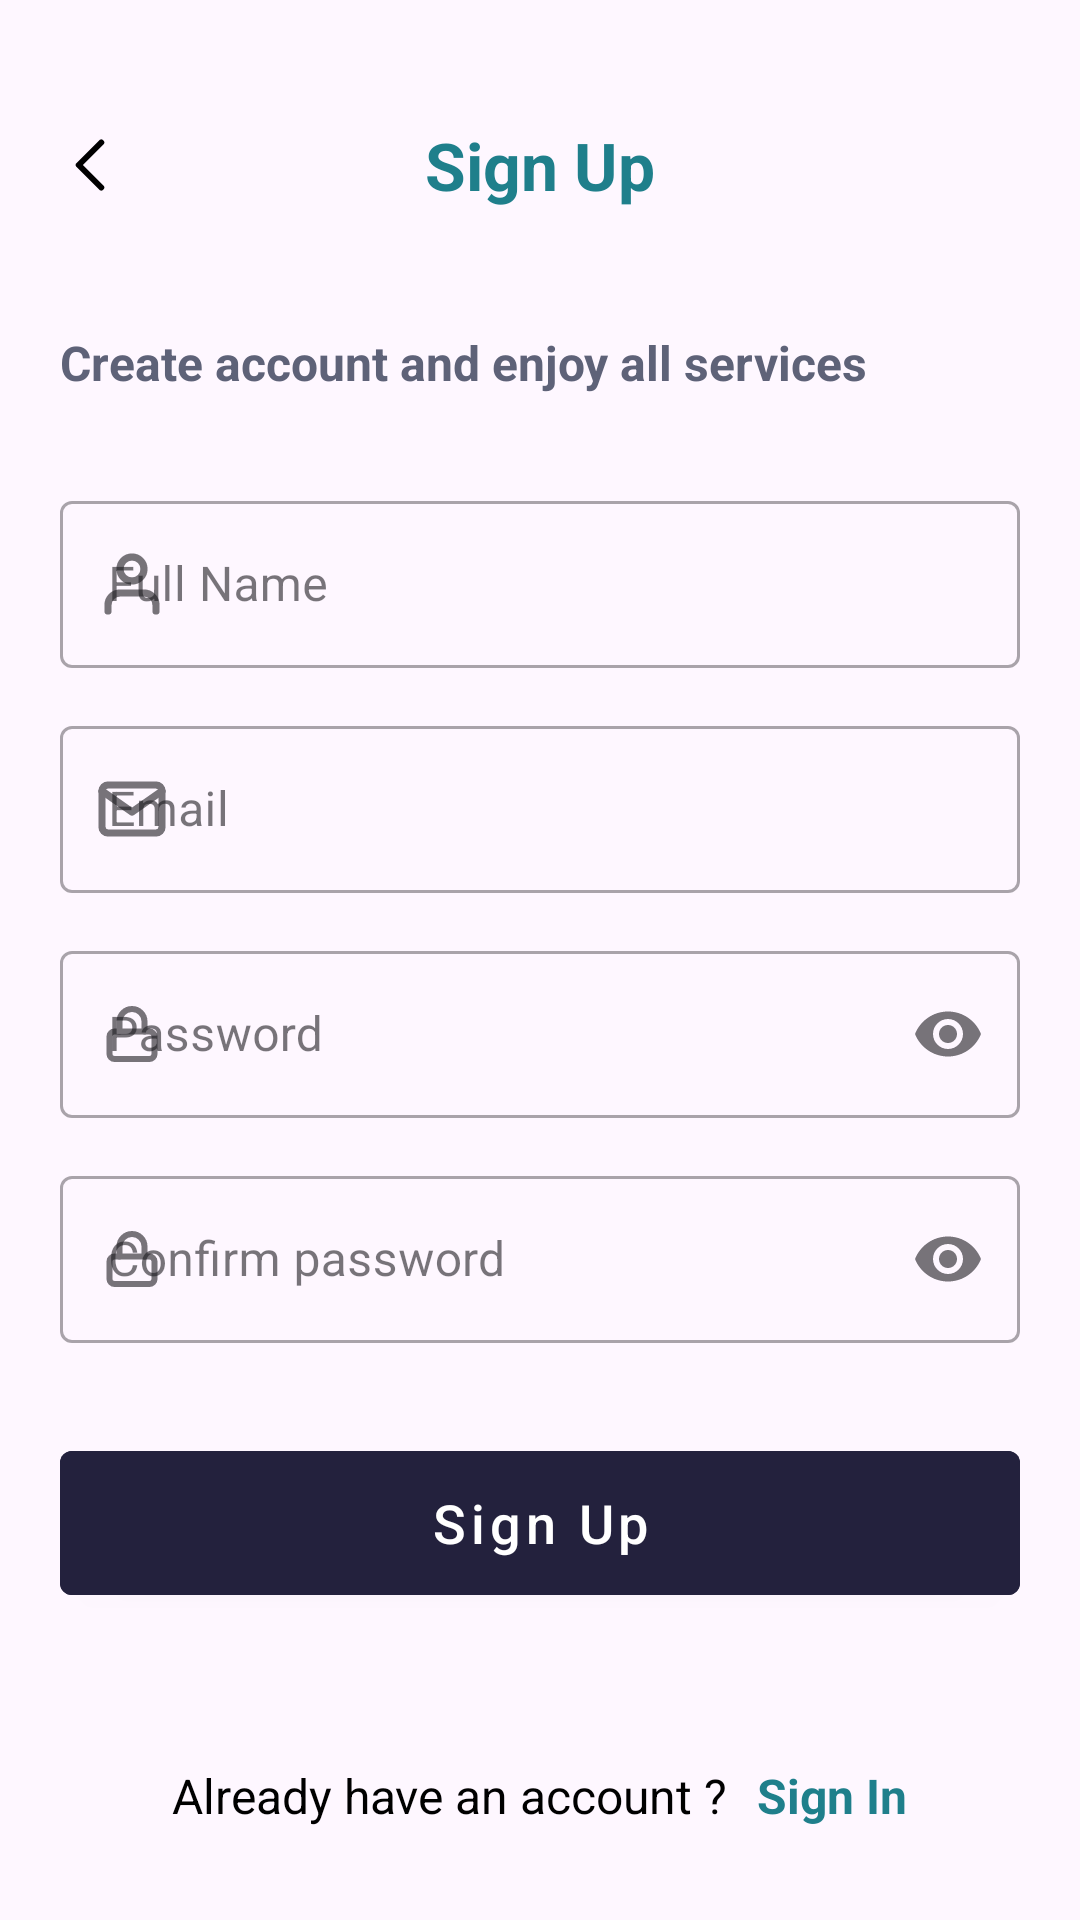

Named icons in this screenshot (1080px×1920px) and their centers, point (x, y):
back: point (90, 165)
